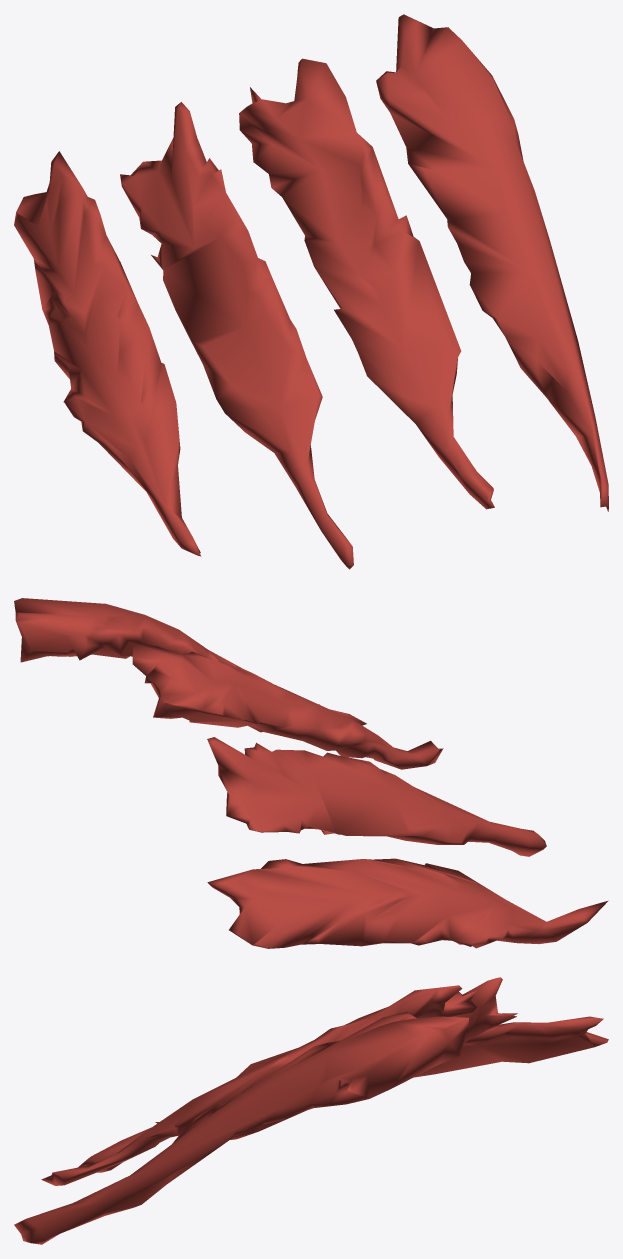
The model's file is musculos-dorsal-interossei-muscles-of-foot-r.glb.
The picture shows the model from 3 angles, top to bottom: view 1: azimuth 30°, elevation 25°; view 2: azimuth 150°, elevation 25°; view 3: azimuth 270°, elevation 25°; orthographic projection. The views are drawn at different scales.
Parts seen in each view (by area): view 1: Dorsal interossei muscles of foot.r; view 2: Dorsal interossei muscles of foot.r; view 3: Dorsal interossei muscles of foot.r.
Part boxes in pixels (box(x1,y1,x2,y2)): Dorsal interossei muscles of foot.r: box(14, 14, 608, 569); Dorsal interossei muscles of foot.r: box(14, 598, 608, 948); Dorsal interossei muscles of foot.r: box(14, 977, 608, 1244).
Bounding box in the file's own units: 0.0513 × 0.0369 × 0.072.
